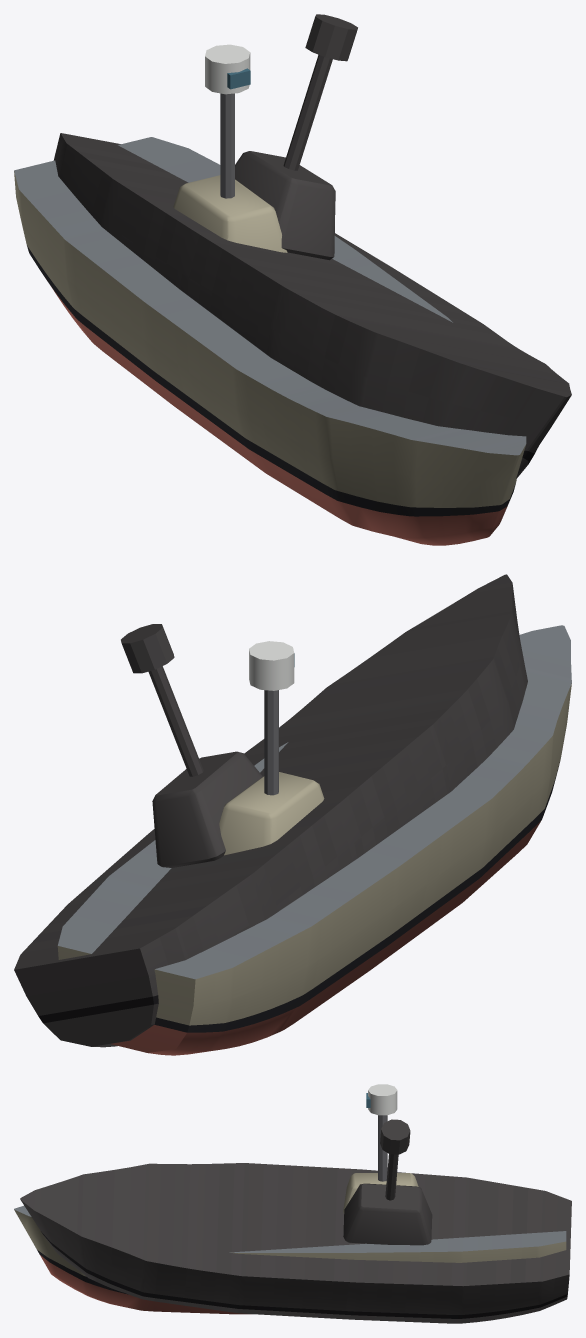
Rendered from seaDrone__sea_drone.glb.
3 renders of one model, top to bottom at view 1: azimuth 30°, elevation 25°; view 2: azimuth 150°, elevation 25°; view 3: azimuth 270°, elevation 25°, orthographic. The views are drawn at different scales.
Parts seen in each view (by area): view 1: Hull_Mesh, Wreck, Radar_Mesh; view 2: Wreck, Hull_Mesh, Radar_Mesh; view 3: Wreck, Hull_Mesh, Radar_Mesh.
Part boxes in pixels (x1,y1,x2,y2): Hull_Mesh: (14, 93, 526, 545); Wreck: (53, 14, 571, 478); Radar_Mesh: (205, 44, 250, 94); Wreck: (14, 574, 527, 1047); Hull_Mesh: (57, 625, 571, 1055); Radar_Mesh: (249, 641, 294, 690); Wreck: (20, 1119, 571, 1323); Hull_Mesh: (14, 1115, 566, 1314); Radar_Mesh: (366, 1084, 397, 1115).
Size of what is drawn, in the model's own units: 2.24 by 2.89 by 6.84.
